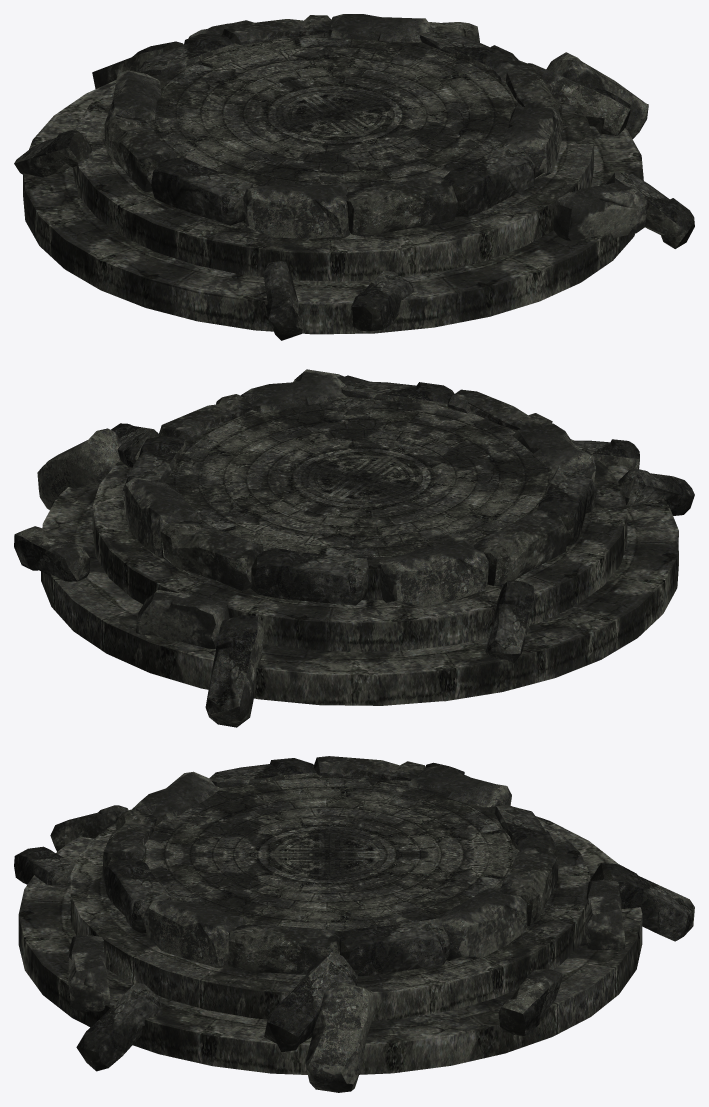
The model's file is pedestal.glb.
3 views of the same model, one above another, from view 1: azimuth 30°, elevation 25°; view 2: azimuth 150°, elevation 25°; view 3: azimuth 270°, elevation 25° (orthographic). The views are drawn at different scales.
Parts seen in each view (by area): view 1: Object_2, Object_3; view 2: Object_2, Object_3; view 3: Object_2, Object_3.
Boxes of the visible parts, x1,y1,x2,y2 form: Object_2: [14, 14, 694, 340]; Object_3: [20, 71, 663, 319]; Object_2: [14, 369, 694, 727]; Object_3: [14, 375, 678, 714]; Object_2: [14, 756, 694, 1092]; Object_3: [18, 775, 694, 1046].
Bounding box in the file's own units: 131 × 24.78 × 134.
Materials: 1 (1 with a texture image).
